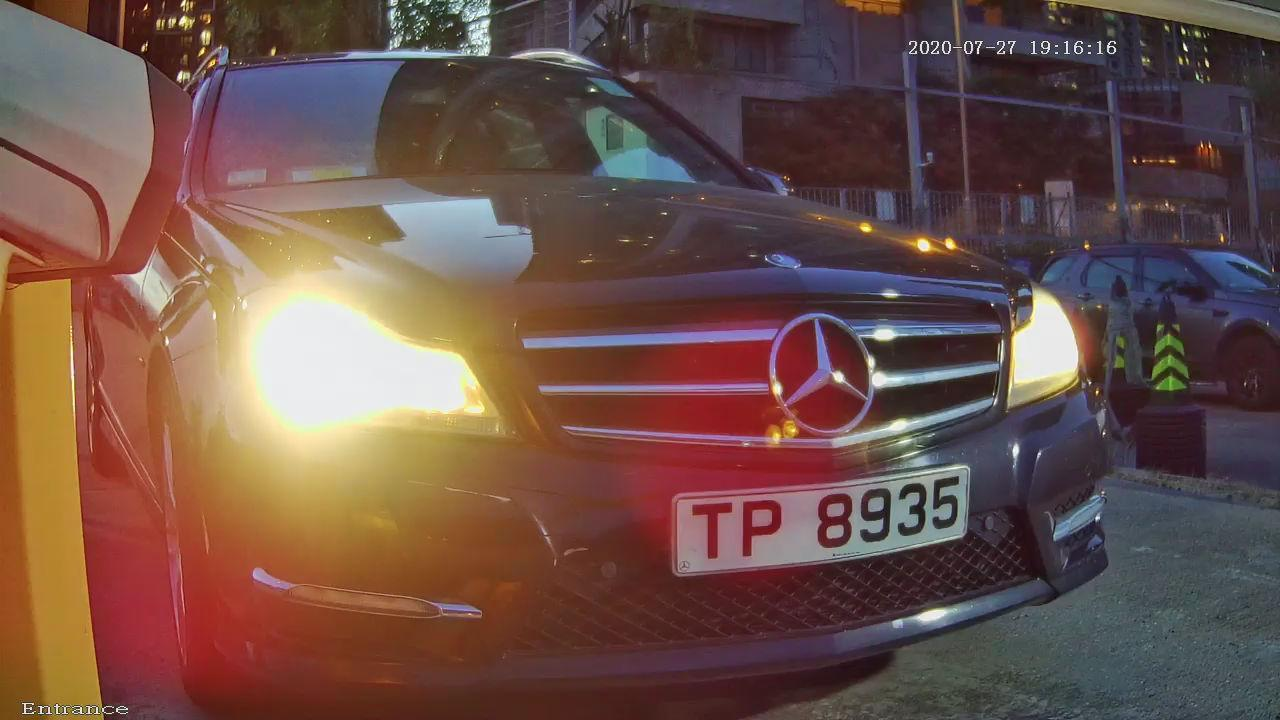privatecar: (27, 2, 1129, 692)
